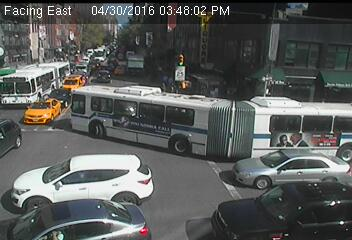neg: (133, 79, 166, 123), (243, 110, 271, 147), (204, 98, 231, 134), (145, 146, 171, 181), (55, 115, 80, 149), (242, 188, 267, 222), (57, 58, 81, 90), (220, 44, 244, 76), (273, 67, 294, 95), (154, 44, 174, 70), (211, 149, 228, 171)
